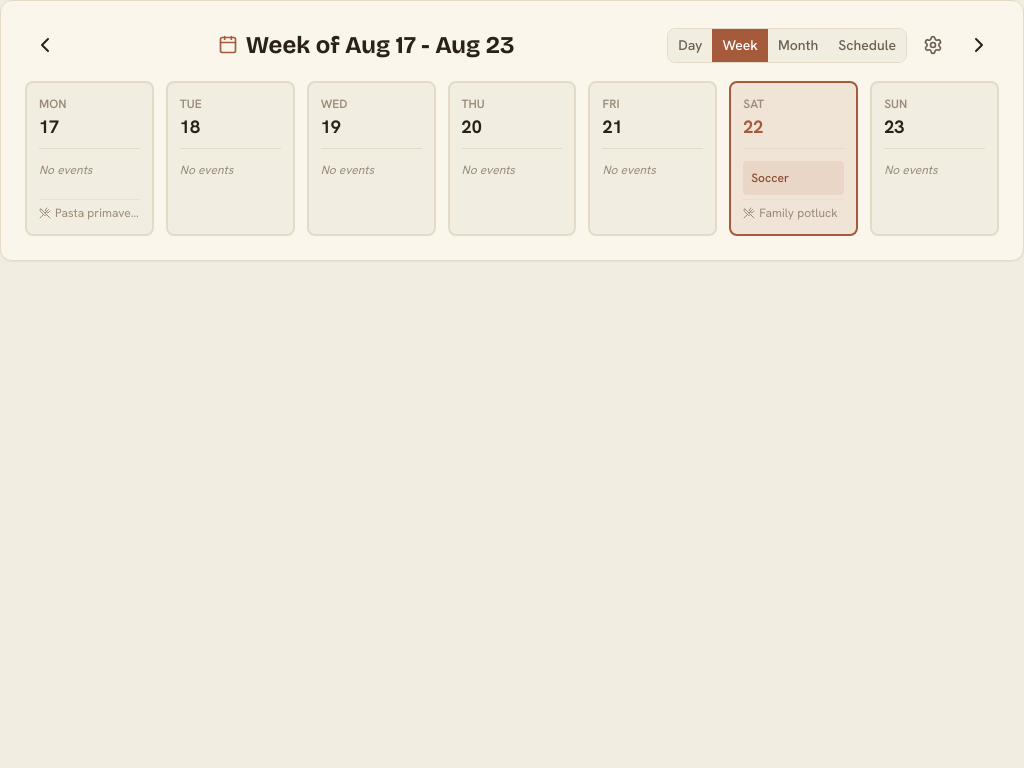
Test case: WeekCalendar — interactions › event detail modal › a recurring event gets the series scope choice with an inferred cadence
The width and height of the screenshot is (1024, 768).
Click the text "Soccer" at coordinates (770, 178), box x1=751 y1=169 x2=789 y2=187
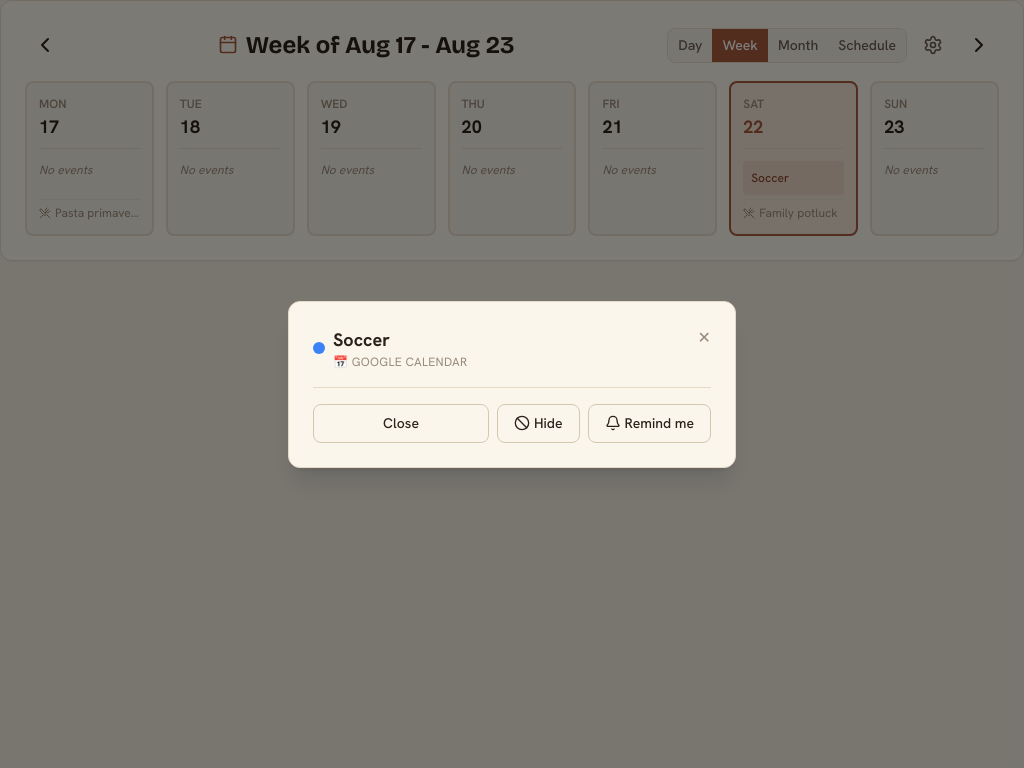
Click the button "Remind me" at coordinates (649, 423), box x1=588 y1=404 x2=711 y2=442
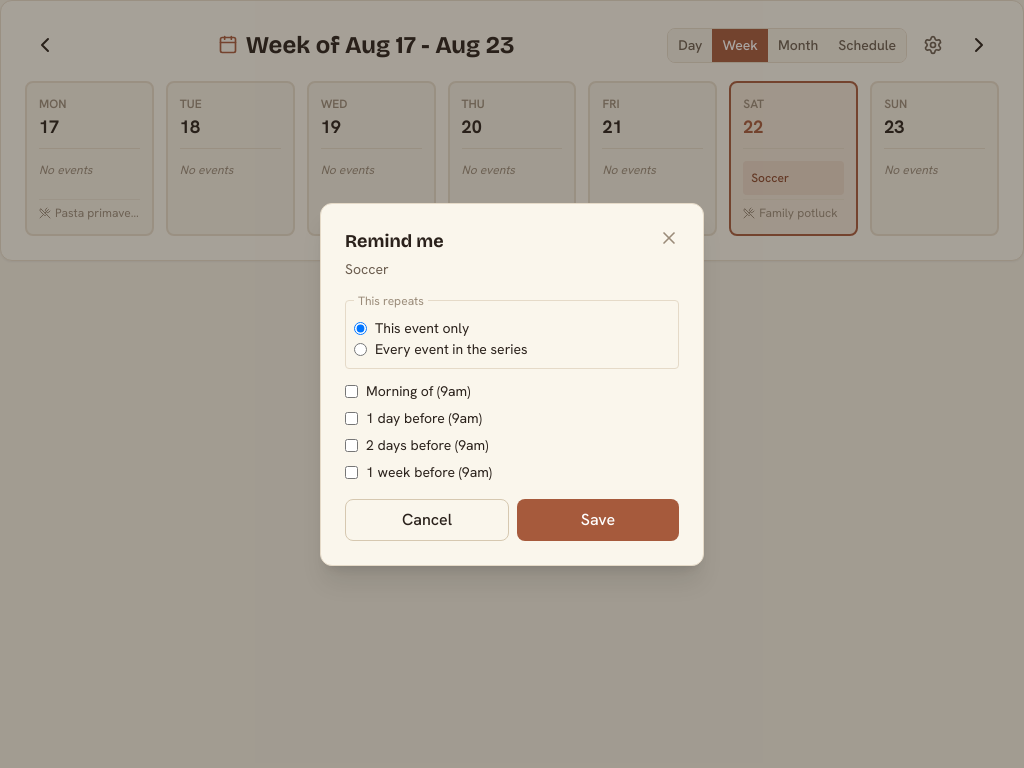
Check: the radio button labelled "Every event in the series" is shown
Click the radio button labelled "Every event in the series" at coordinates (360, 349), box x1=354 y1=342 x2=367 y2=356
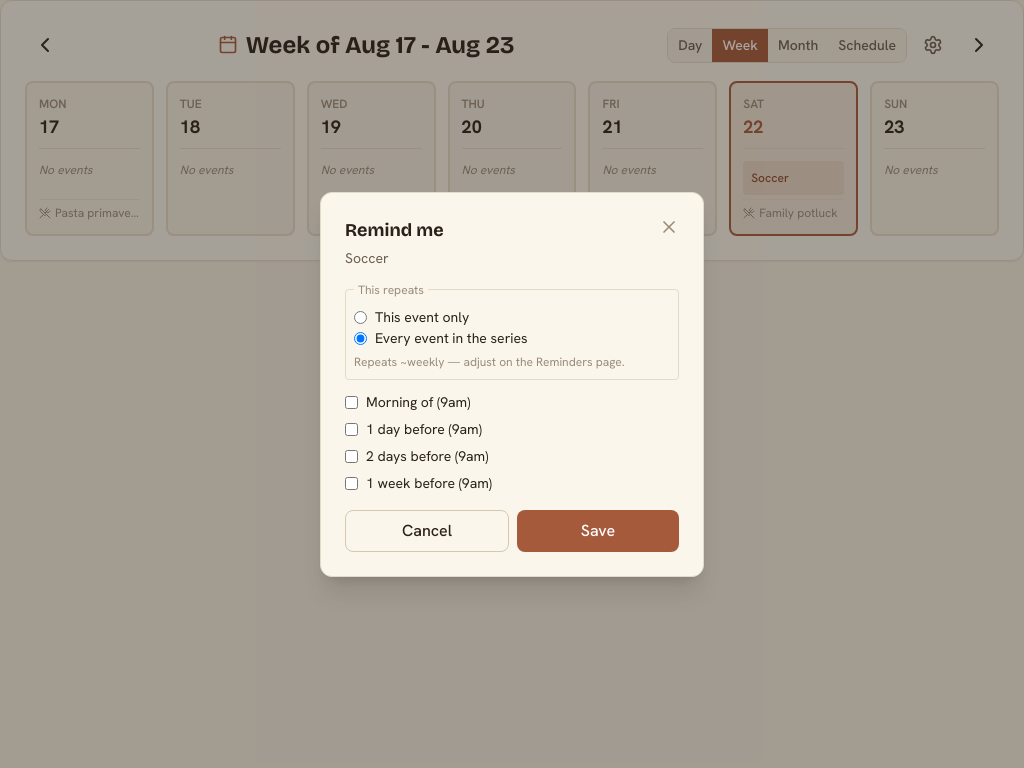
Check: the text "Repeats ~weekly — adjust on the Reminders page." is shown, box x1=354 y1=352 x2=670 y2=370
